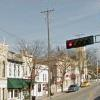Traffic light: (53, 32, 100, 57)
